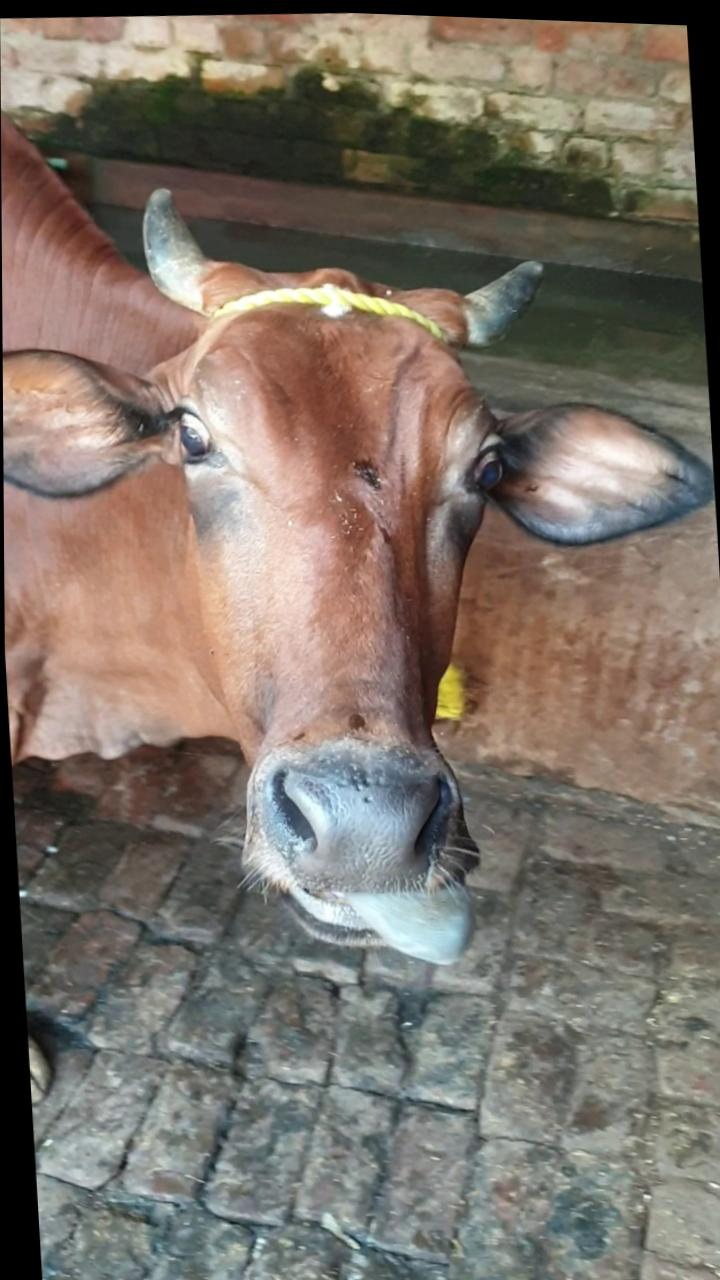cows: (157, 238, 550, 950)
